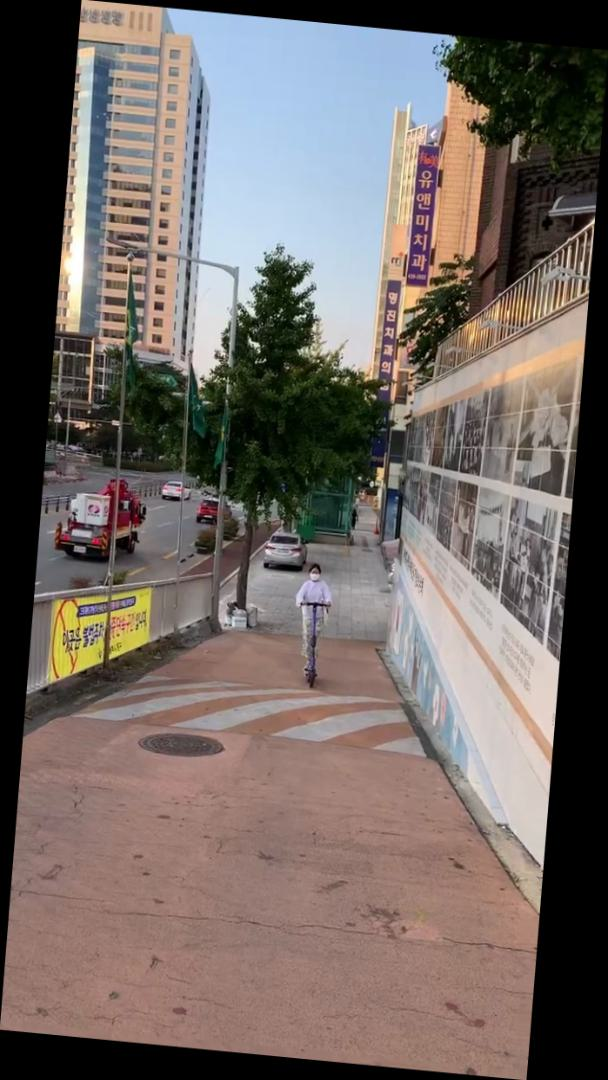nonhelmet: (288, 559, 340, 692)
